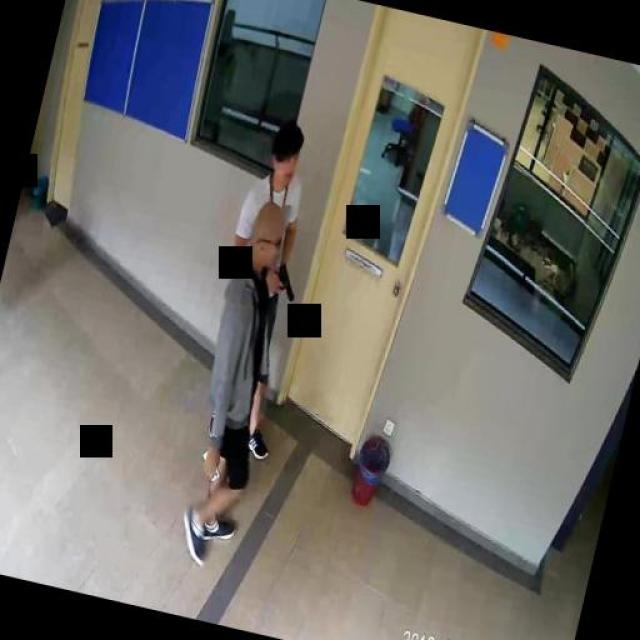gun: (271, 262, 300, 300)
